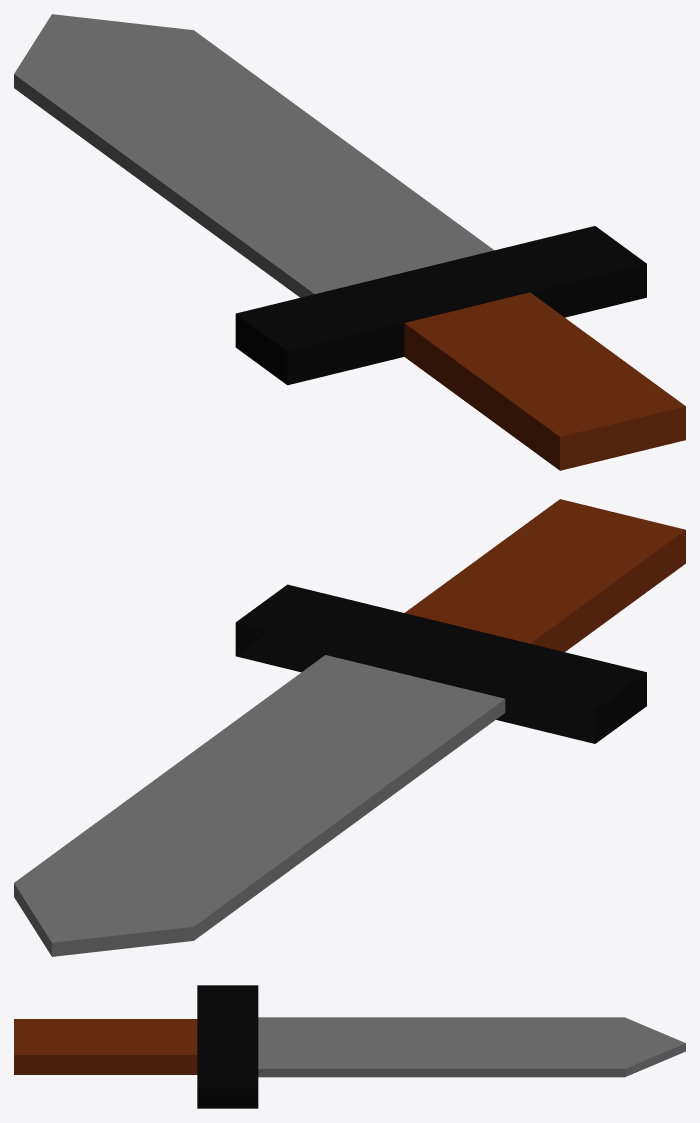
Rendered from CutreSword.fbx.
3 views of the same model, one above another, from view 1: azimuth 30°, elevation 25°; view 2: azimuth 150°, elevation 25°; view 3: azimuth 270°, elevation 25° (orthographic). The views are drawn at different scales.
Visible parts, largest first — view 1: Plane; view 2: Plane; view 3: Plane.
Boxes of the visible parts, x1,y1,x2,y2 form: Plane: (14,14,685,470); Plane: (14,499,685,956); Plane: (14,985,685,1108).
Size of the model in its own units: 400 by 35.9 by 1100.
